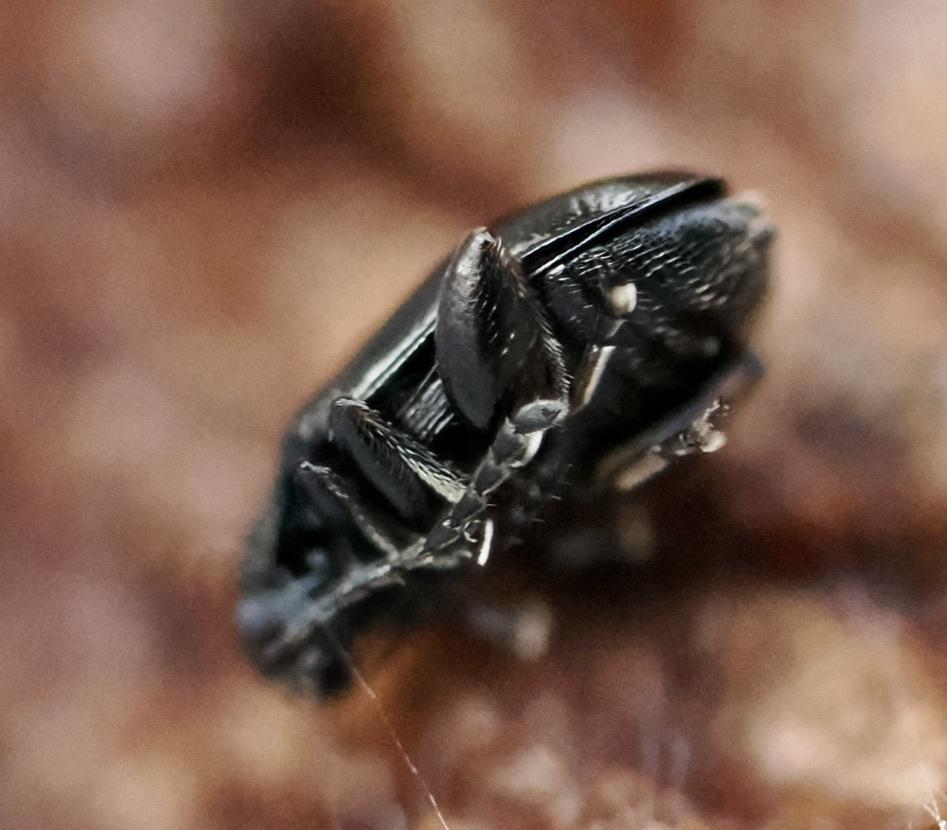flea_beetle: (143, 82, 864, 770)
